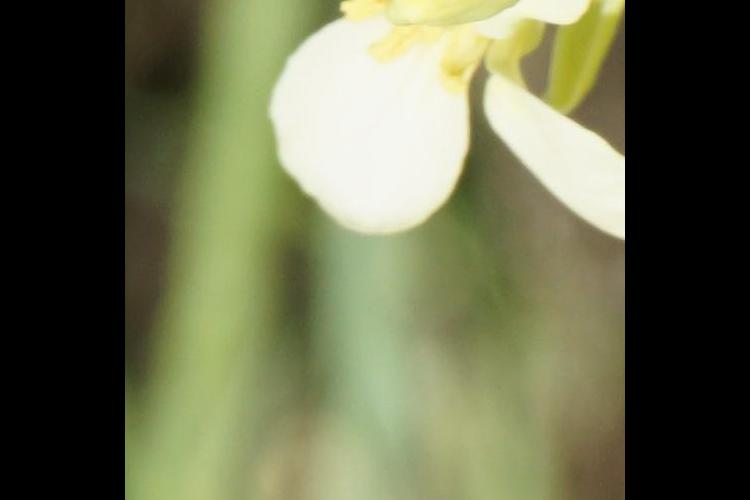bud: (402, 1, 582, 32)
white: (247, 1, 606, 234)
